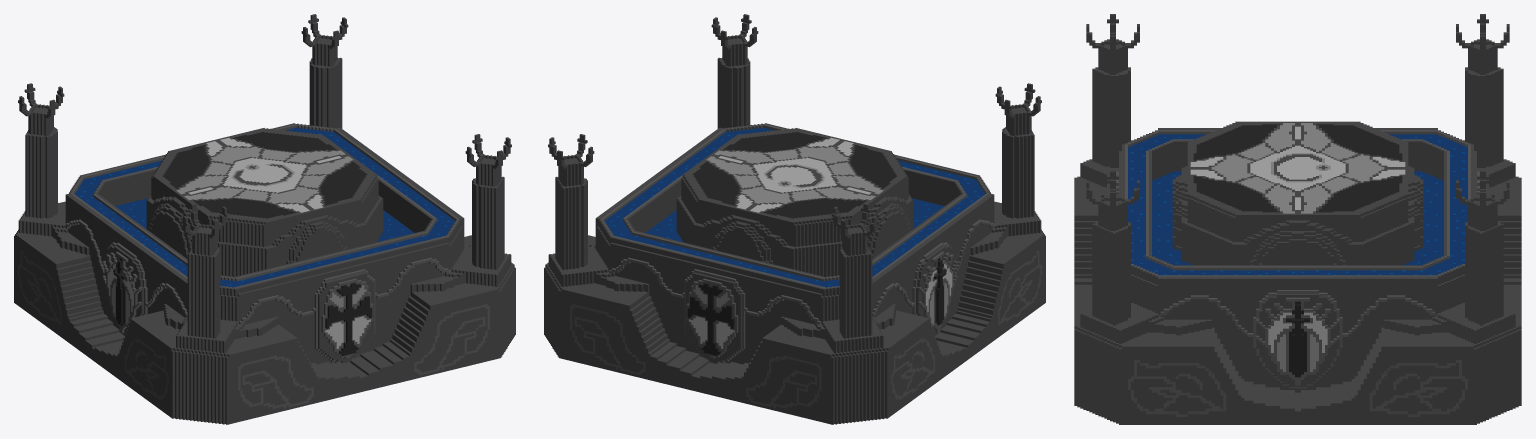
Rendered from алтарь для босса.obj.
The picture shows the model from 3 angles, left to right: view 1: azimuth 30°, elevation 25°; view 2: azimuth 150°, elevation 25°; view 3: azimuth 270°, elevation 25°; orthographic projection. The views are drawn at different scales.
Bounding box in the file's own units: 15 × 8.4 × 15.
Materials: 1 (1 with a texture image).
